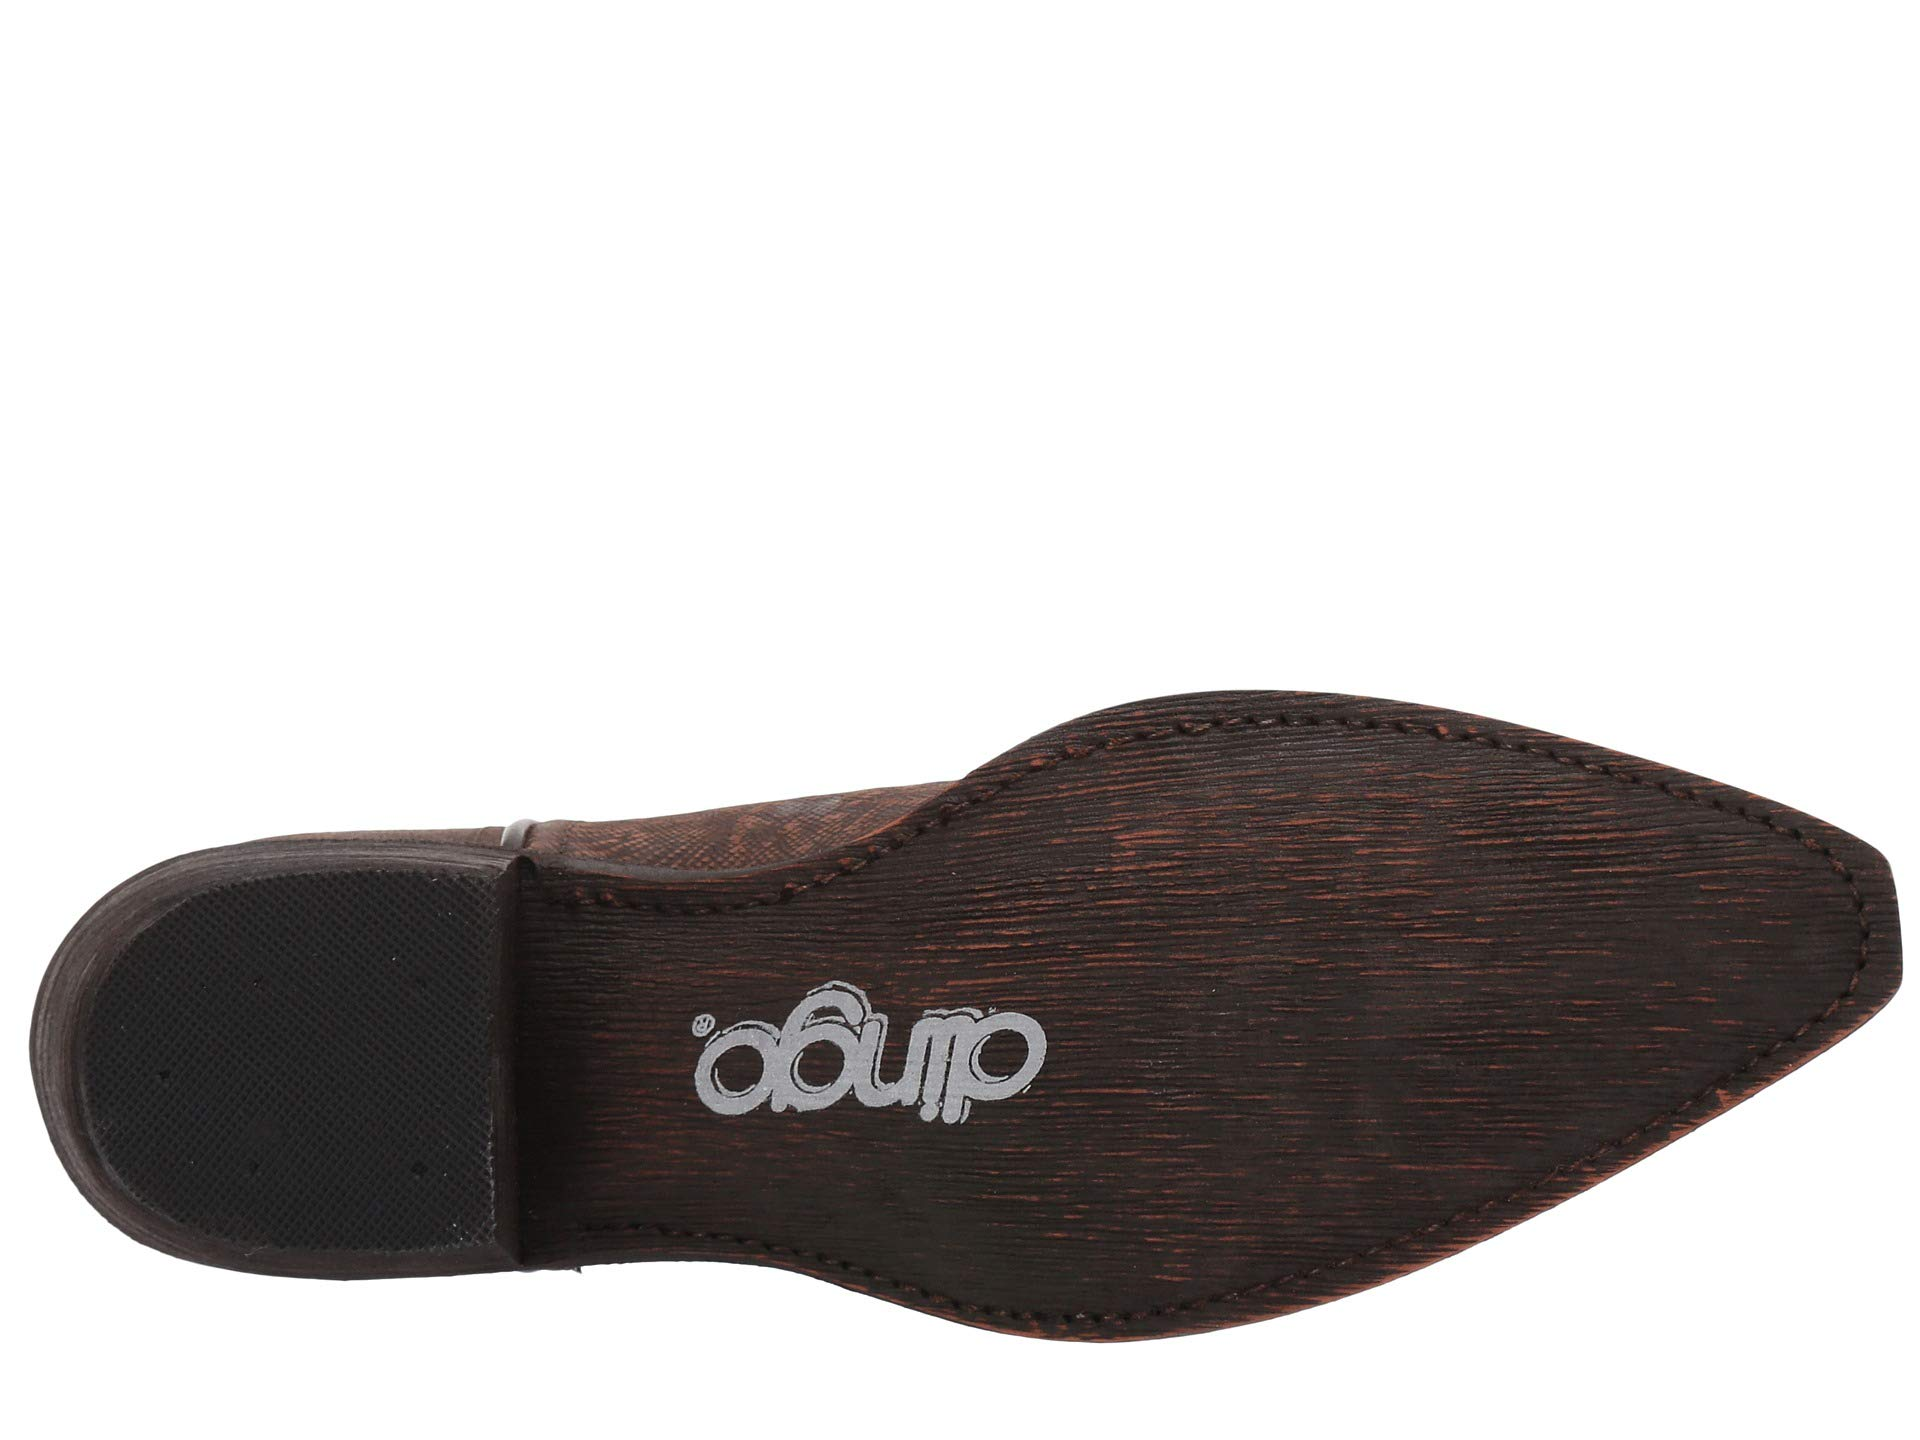circle: (612, 933, 1113, 1243)
text: (612, 933, 1113, 1243)
